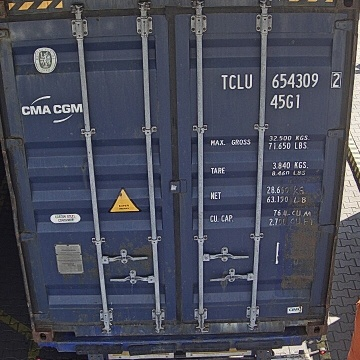serial_id: (221, 72, 341, 89)
